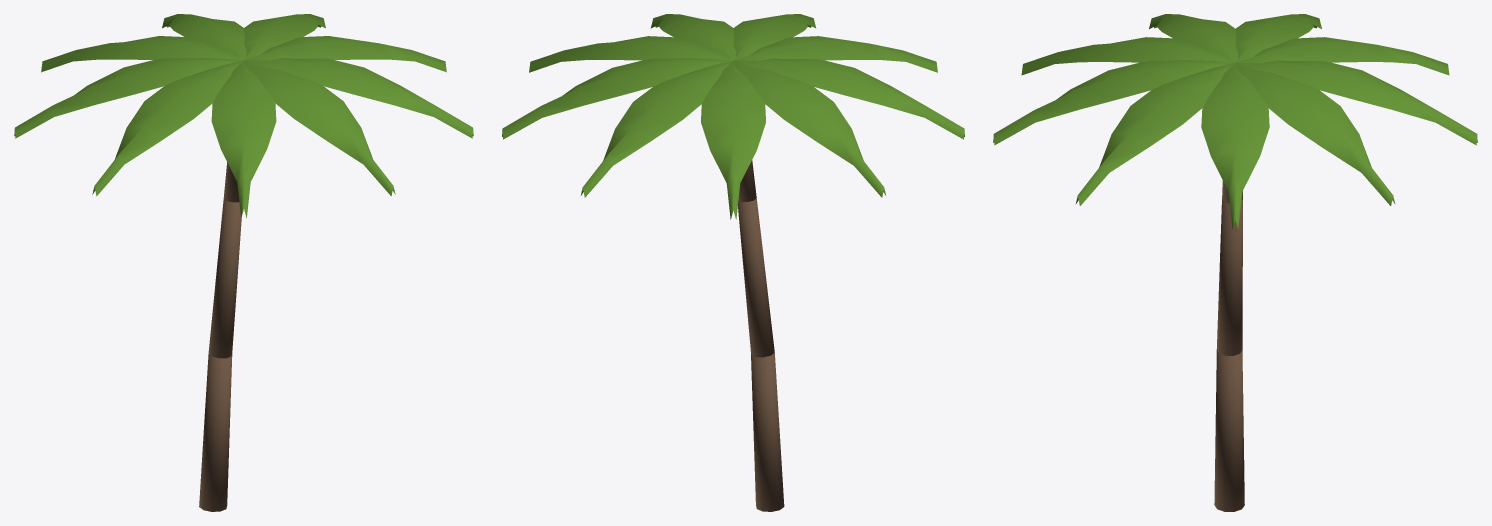
File: palm.glb
3 views of the same model, side by side, from view 1: azimuth 30°, elevation 25°; view 2: azimuth 150°, elevation 25°; view 3: azimuth 270°, elevation 25° (orthographic). The views are drawn at different scales.
Parts seen in each view (by area): view 1: Frond6, Frond7, Frond5, Frond8, Frond4, Trunk0, Trunk1, Frond0, Frond3, Frond1, Frond2; view 2: Frond3, Frond4, Frond2, Frond5, Frond1, Trunk0, Trunk1, Frond6, Frond0, Frond7, Frond8; view 3: Frond0, Frond1, Frond8, Frond2, Frond7, Trunk0, Frond3, Frond6, Trunk1, Frond4, Frond5.
Boxes of the visible parts, box(x1,y1,x2,y2) form: Frond6: box(211, 60, 276, 217); Frond7: box(244, 60, 395, 196); Frond5: box(92, 60, 243, 196); Frond8: box(244, 58, 473, 138); Frond4: box(14, 58, 242, 138); Trunk0: box(199, 354, 232, 511); Trunk1: box(208, 199, 241, 358); Frond0: box(244, 36, 446, 72); Frond3: box(41, 36, 243, 72); Frond1: box(244, 14, 325, 59); Frond2: box(162, 14, 246, 59); Frond3: box(701, 61, 765, 219); Frond4: box(733, 61, 885, 197); Frond2: box(581, 61, 732, 197); Frond5: box(734, 58, 964, 139); Frond1: box(502, 58, 732, 139); Trunk0: box(751, 353, 784, 511); Trunk1: box(738, 198, 774, 357); Frond6: box(734, 36, 937, 72); Frond0: box(529, 36, 732, 72); Frond7: box(733, 14, 816, 60); Frond8: box(650, 14, 736, 60); Frond0: box(1201, 63, 1269, 229); Frond1: box(1235, 63, 1395, 205); Frond8: box(1075, 63, 1234, 205); Frond2: box(1236, 60, 1477, 145); Frond7: box(993, 60, 1234, 145); Trunk0: box(1214, 350, 1244, 511); Frond3: box(1236, 37, 1449, 75); Frond6: box(1021, 37, 1234, 75); Trunk1: box(1216, 199, 1242, 355); Frond4: box(1235, 14, 1321, 62); Frond5: box(1149, 14, 1238, 62).
Bounding box in the file's own units: 8.16 × 8.75 × 8.29.
